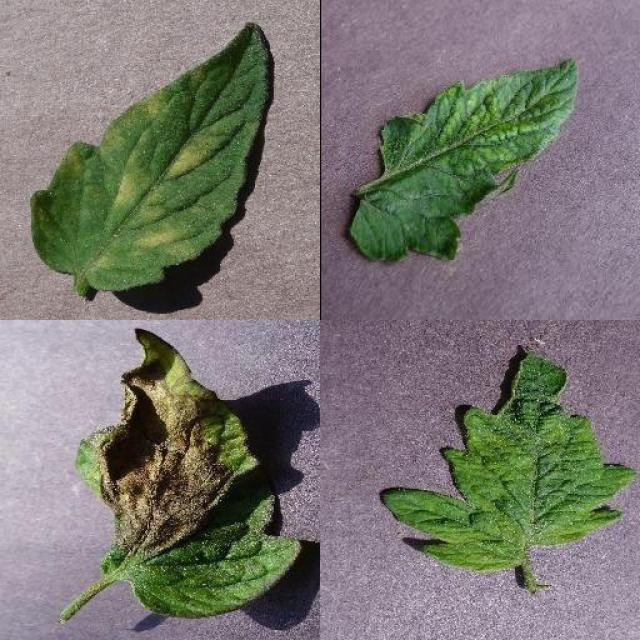Late Blight: (76, 328, 302, 620)
